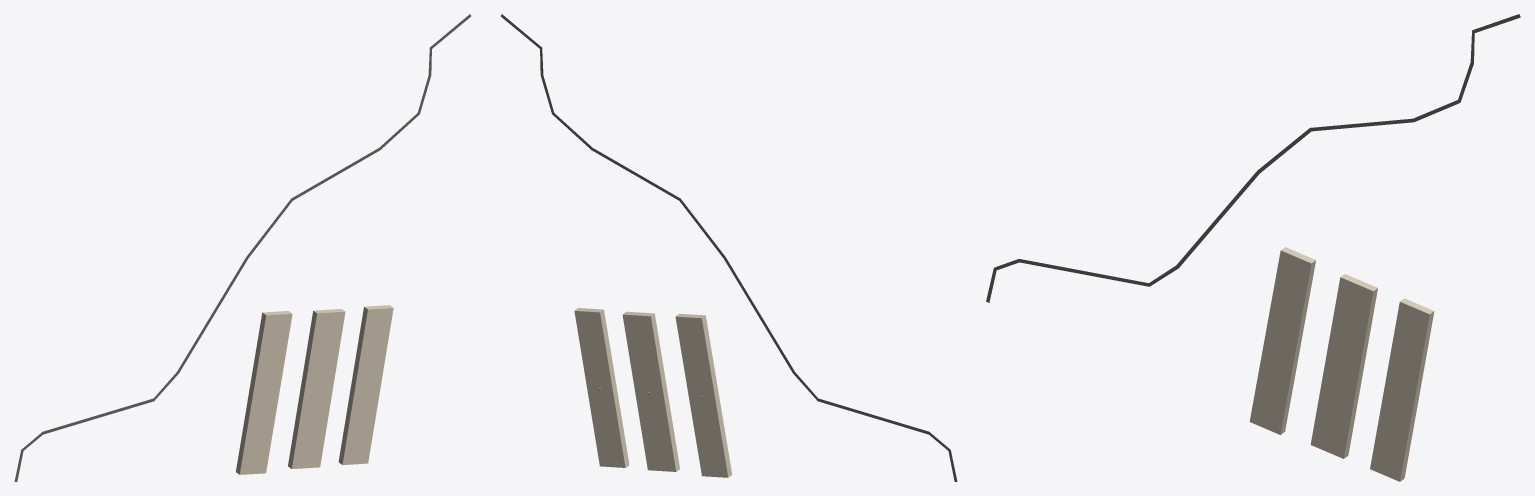
Rendered from historic-palestine-13_32_3553_3263.glb.
3 renders of one model, left to right at view 1: azimuth 30°, elevation 25°; view 2: azimuth 150°, elevation 25°; view 3: azimuth 330°, elevation 25°, orthographic. The views are drawn at different scales.
Parts seen in each view (by area): view 1: Building_.001, Building_, Building_.002, Road; view 2: Building_.001, Building_, Building_.002, Road; view 3: Building_.001, Building_, Building_.002, Road.
Part boxes in pixels (<box>): Building_.001: <box>288,309,345,468</box>; Building_: <box>236,311,292,474</box>; Building_.002: <box>338,305,393,464</box>; Road: <box>14,14,471,481</box>; Building_.001: <box>622,311,679,471</box>; Building_: <box>675,313,732,477</box>; Building_.002: <box>574,308,629,467</box>; Road: <box>500,14,957,481</box>; Building_.001: <box>1310,274,1377,458</box>; Building_: <box>1249,247,1315,434</box>; Building_.002: <box>1370,298,1434,481</box>; Road: <box>986,14,1520,302</box>.
Size of the model in its own units: 501 by 445 by 8.7.
